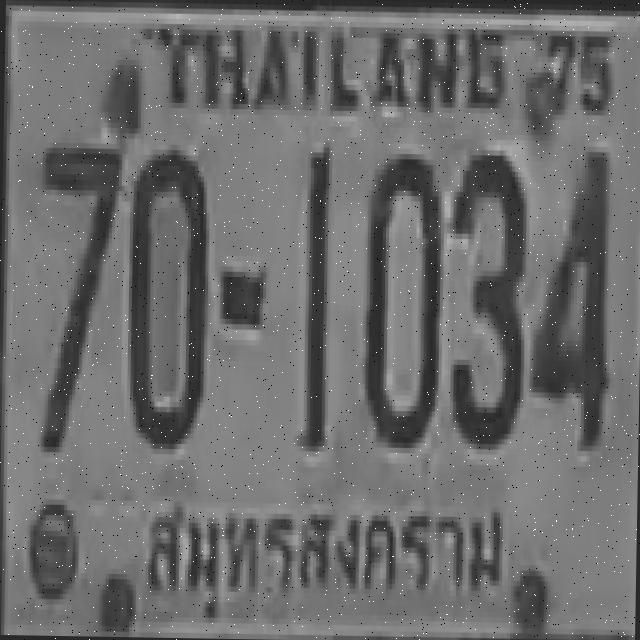0: (126, 144, 210, 444), (361, 148, 442, 443)
1: (300, 147, 330, 446)
3: (446, 150, 524, 444)
4: (528, 146, 610, 440)
7: (32, 142, 120, 448)
SamutSongkhram: (136, 484, 518, 634)
